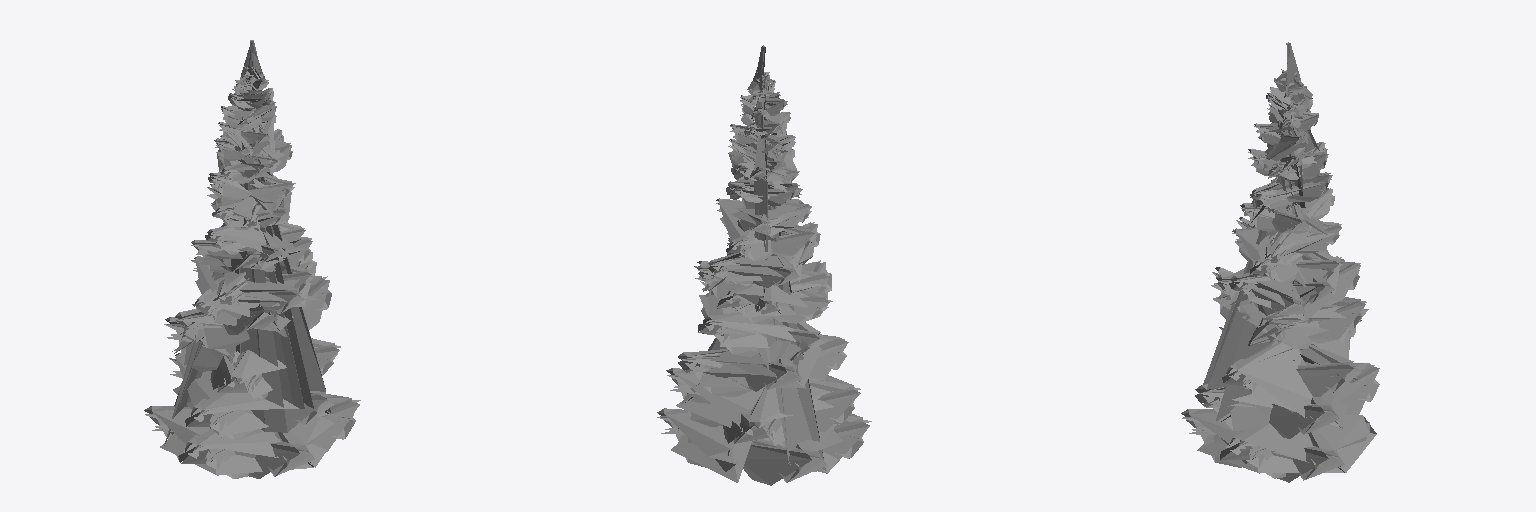
File: Puu.obj
The picture shows the model from 3 angles: view 1: azimuth 30°, elevation 25°; view 2: azimuth 150°, elevation 25°; view 3: azimuth 270°, elevation 25°; orthographic projection.
Visible parts, largest first — view 1: Branches; view 2: Branches; view 3: Branches.
Part boxes in pixels (bbox=[...]): Branches: bbox=[144, 40, 360, 478]; Branches: bbox=[657, 45, 871, 485]; Branches: bbox=[1181, 42, 1379, 482].
Size of the model in its own units: 428 by 1000 by 426.